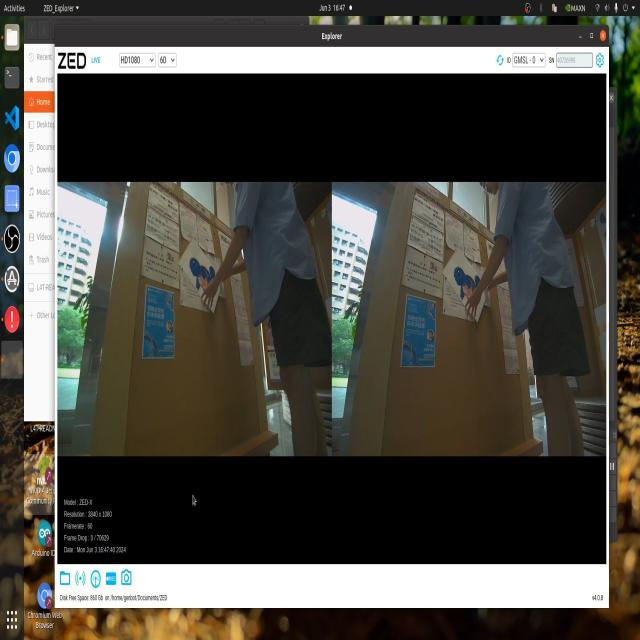blue: (182, 256, 218, 299), (445, 257, 481, 299)
